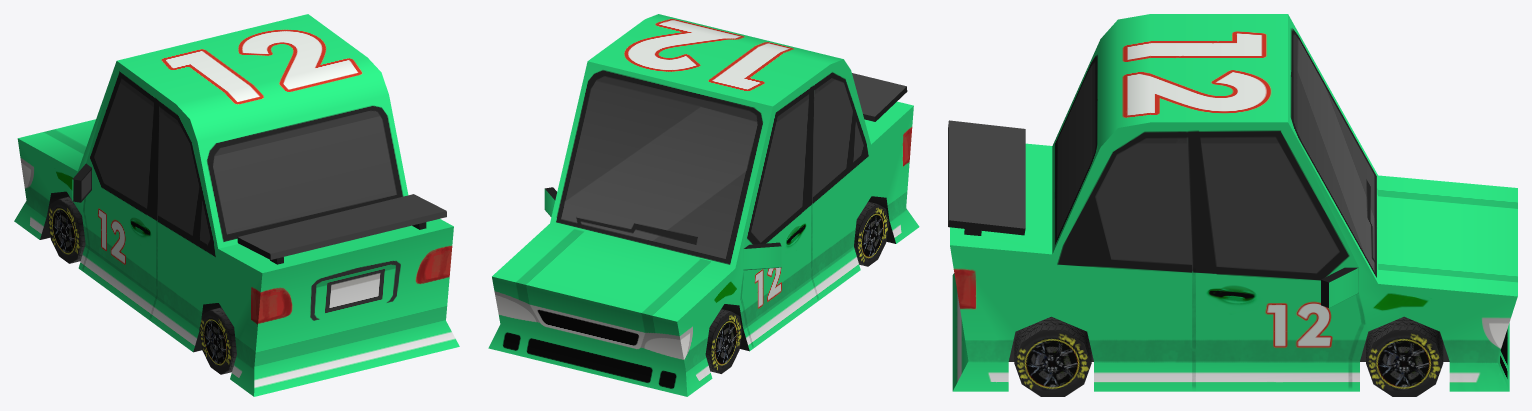
File: sportscar_green_collada_14.dae
3 renders of one model, left to right at view 1: azimuth 30°, elevation 25°; view 2: azimuth 150°, elevation 25°; view 3: azimuth 270°, elevation 25°, orthographic. The views are drawn at different scales.
Visible parts, largest first — view 1: sportsCar_green_body, wheelBL, wheelFL; view 2: sportsCar_green_body, wheelFL, wheelBL; view 3: sportsCar_green_body, wheelFR, wheelBR.
Part boxes in pixels (<box>): sportsCar_green_body: <box>14,14,459,396</box>; wheelBL: <box>199,307,236,374</box>; wheelFL: <box>47,196,85,263</box>; sportsCar_green_body: <box>488,14,919,396</box>; wheelFL: <box>705,309,742,373</box>; wheelBL: <box>854,201,888,266</box>; sportsCar_green_body: <box>948,14,1517,391</box>; wheelFR: <box>1366,316,1443,396</box>; wheelBR: <box>1014,316,1091,396</box>.
Size of the model in its own units: 242 by 222 by 420.
1 material, 1 textured.
